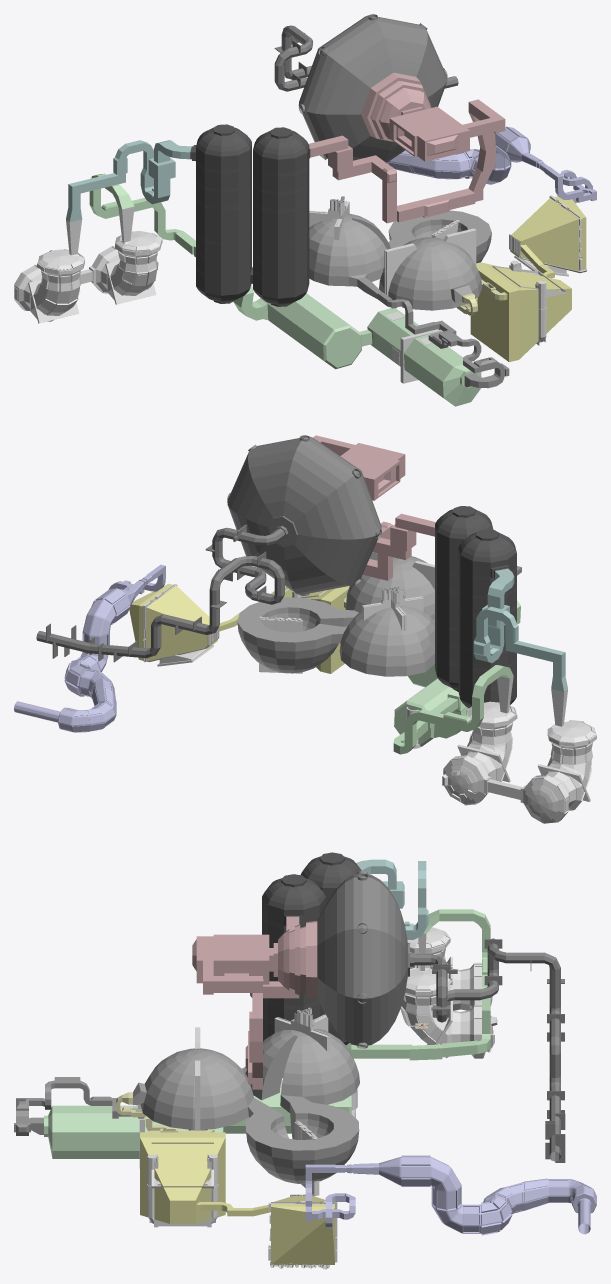
The model's file is DoorSolid.fbx.
3 renders of one model, top to bottom at view 1: azimuth 30°, elevation 25°; view 2: azimuth 150°, elevation 25°; view 3: azimuth 270°, elevation 25°, orthographic. The views are drawn at different scales.
Parts seen in each view (by area): view 1: 2-Capacitor, 5-Breeder, 1-Reactor, 1-ReactorTunnel, 4-Injectors, 6-Relay, 3-Control-Detail, 2-CapacitorTunnel, 6-RelayDetail, 7-CoolerDetail, 3-Control, 1-ReactorEntrance (+9 smaller); view 2: 1-Reactor, 5-Breeder, 2-Capacitor, 3-Control-Detail, 0-EscapeTunnel, 3-Control, 7-CoolerDetail, 1-ReactorTunnel, 6-Relay, 2-CapacitorTunnel, 3-ControlTunnel, 4-Injectors (+5 smaller); view 3: 5-Breeder, 1-Reactor, 6-Relay, 7-CoolerDetail, 1-ReactorTunnel, 2-Capacitor, 4-Injectors, 0-EscapeTunnel, 3-Control-Detail, 6-RelayDetail, 3-ControlTunnel, 3-Control (+9 smaller).
Boxes of the visible parts, box(x1,y1,x2,y2) form: 2-Capacitor: box(190, 124, 310, 306); 5-Breeder: box(309, 210, 491, 310); 1-Reactor: box(298, 15, 447, 162); 1-ReactorTunnel: box(309, 99, 505, 223); 4-Injectors: box(255, 293, 481, 406); 6-Relay: box(470, 196, 586, 362); 3-Control-Detail: box(14, 231, 162, 321); 2-CapacitorTunnel: box(66, 140, 191, 221); 6-RelayDetail: box(476, 196, 586, 360); 7-CoolerDetail: box(387, 126, 553, 184); 3-Control: box(14, 206, 161, 311); 1-ReactorEntrance: box(361, 72, 431, 141); 1-Reactor: box(227, 436, 381, 594); 5-Breeder: box(237, 556, 434, 676); 2-Capacitor: box(435, 506, 516, 707); 3-Control-Detail: box(442, 701, 596, 823); 0-EscapeTunnel: box(36, 516, 297, 658); 3-Control: box(443, 676, 596, 823); 7-CoolerDetail: box(14, 571, 156, 732); 1-ReactorTunnel: box(313, 435, 435, 580); 6-Relay: box(129, 583, 349, 673); 2-CapacitorTunnel: box(473, 568, 567, 691); 3-ControlTunnel: box(393, 665, 513, 754); 4-Injectors: box(394, 600, 520, 746); 5-Breeder: box(133, 1028, 359, 1183); 1-Reactor: box(317, 873, 407, 1046); 6-Relay: box(140, 1132, 334, 1264); 7-CoolerDetail: box(324, 1155, 596, 1235); 1-ReactorTunnel: box(192, 916, 299, 1089); 2-Capacitor: box(262, 852, 361, 1044); 4-Injectors: box(44, 1080, 351, 1158); 0-EscapeTunnel: box(408, 938, 560, 1161); 3-Control-Detail: box(400, 927, 497, 1058); 6-RelayDetail: box(140, 1132, 334, 1269); 3-ControlTunnel: box(346, 909, 490, 1060); 3-Control: box(401, 930, 493, 1057).
Bounding box in the file's own units: 3064 × 1622 × 2729.
